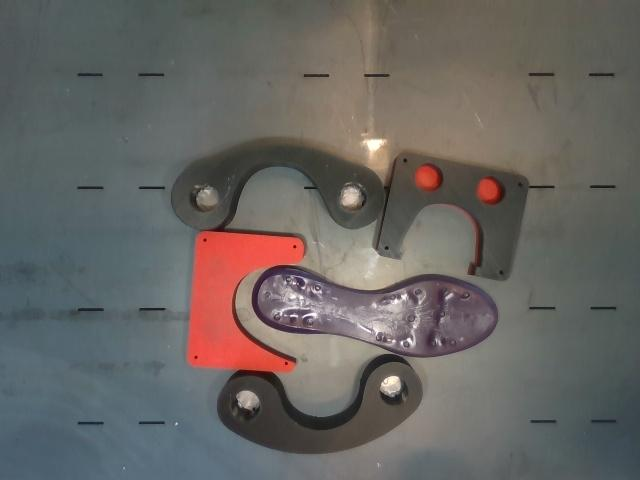shoes: (253, 267, 498, 356)
